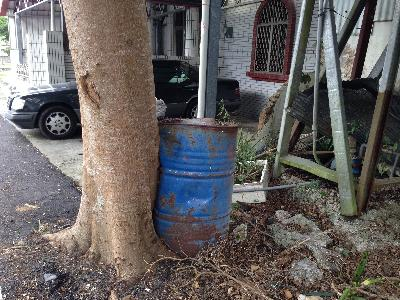bucket: (157, 115, 240, 257)
